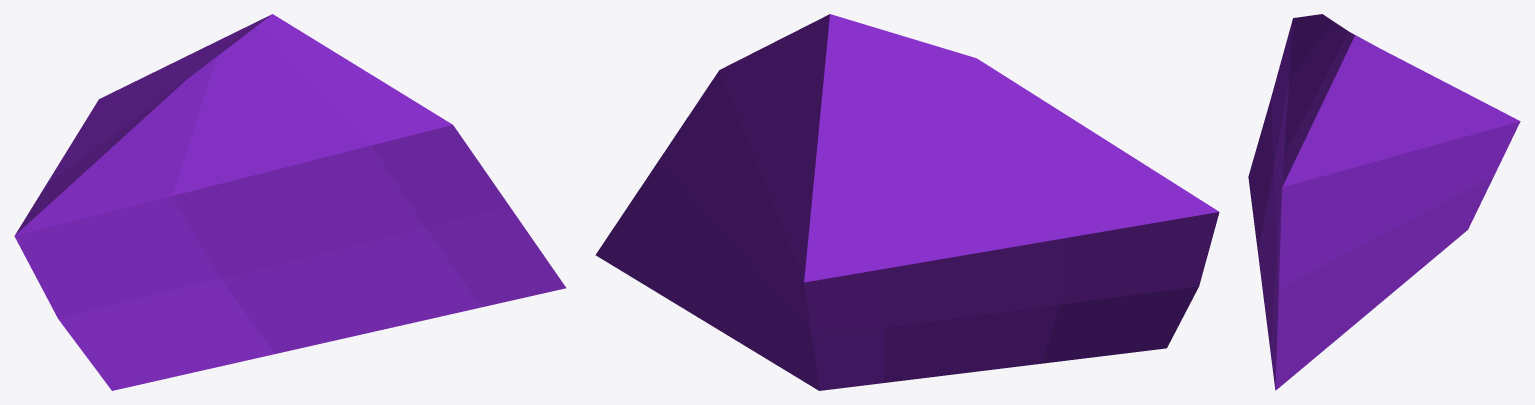
File: item_mushrock.glb
3 renders of one model, left to right at view 1: azimuth 30°, elevation 25°; view 2: azimuth 150°, elevation 25°; view 3: azimuth 270°, elevation 25°, orthographic. The views are drawn at different scales.
Parts seen in each view (by area): view 1: Sphere; view 2: Sphere; view 3: Sphere.
Boxes of the visible parts, bbox=[...] form: Sphere: bbox=[14, 14, 566, 390]; Sphere: bbox=[595, 14, 1219, 390]; Sphere: bbox=[1248, 14, 1520, 390].
Bounding box in the file's own units: 2.87 × 1.52 × 1.48.
